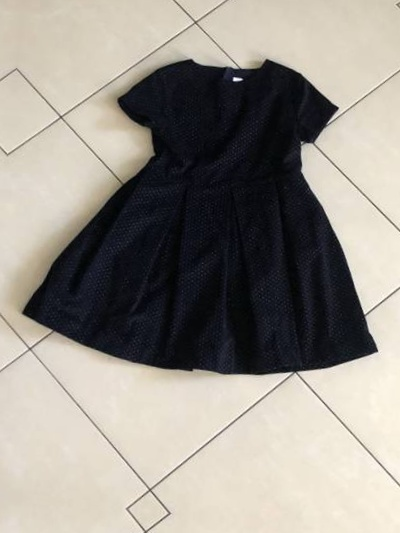Dress: (25, 12, 400, 411)
